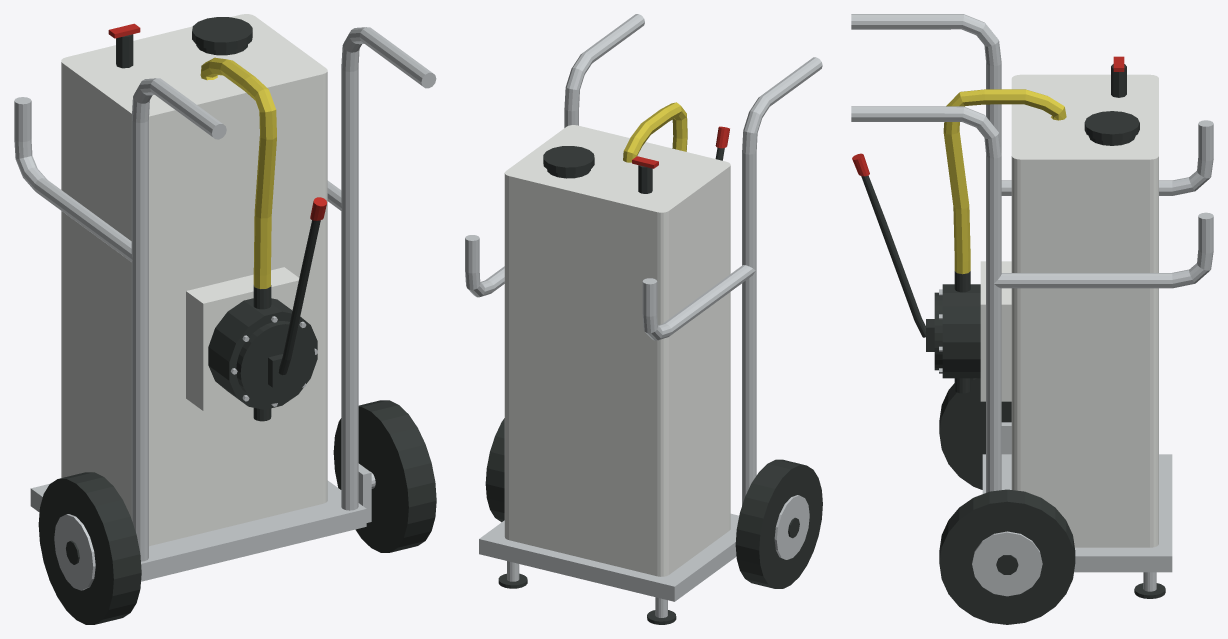
The picture shows the model from 3 angles, left to right: view 1: azimuth 30°, elevation 25°; view 2: azimuth 150°, elevation 25°; view 3: azimuth 270°, elevation 25°; orthographic projection. The views are drawn at different scales.
Parts seen in each view (by area): view 1: Collection_tank_25gal, Tubular_push_frame_-1, Tubular_push_frame_1, Pneumatic_tire_-1, Pneumatic_tire_1, Base_tray, Pump_mount_plate, Short_yellow_connecting_hose, Pump_cover, Diaphragm_pump_body, Wheel_rim_-1, Lever_pivot_lug (+2 smaller); view 2: Collection_tank_25gal, Tubular_push_frame_-1, Pneumatic_tire_-1, Base_tray, Tubular_push_frame_1, Short_yellow_connecting_hose, Wheel_rim_-1, Pneumatic_tire_1, Four_inch_access_cap; view 3: Collection_tank_25gal, Tubular_push_frame_1, Pneumatic_tire_1, Tubular_push_frame_-1, Base_tray, Short_yellow_connecting_hose, Pneumatic_tire_-1, Diaphragm_pump_body, Wheel_rim_1, Pump_mount_plate, Lever_pivot_lug, Four_inch_access_cap (+1 smaller).
Boxes of the visible parts, x1,y1,x2,y2 form: Collection_tank_25gal: [61, 14, 327, 546]; Tubular_push_frame_-1: [14, 78, 226, 561]; Tubular_push_frame_1: [327, 27, 436, 510]; Pneumatic_tire_-1: [38, 472, 141, 624]; Pneumatic_tire_1: [333, 400, 436, 552]; Base_tray: [30, 480, 366, 581]; Pump_mount_plate: [186, 267, 301, 410]; Short_yellow_connecting_hose: [200, 57, 276, 288]; Pump_cover: [236, 321, 314, 403]; Diaphragm_pump_body: [208, 298, 317, 409]; Wheel_rim_-1: [54, 514, 95, 590]; Lever_pivot_lug: [268, 220, 320, 387]; Collection_tank_25gal: [504, 125, 730, 576]; Tubular_push_frame_-1: [642, 57, 822, 505]; Pneumatic_tire_-1: [735, 459, 822, 588]; Base_tray: [479, 513, 739, 601]; Tubular_push_frame_1: [465, 14, 644, 297]; Short_yellow_connecting_hose: [623, 102, 687, 162]; Wheel_rim_-1: [774, 495, 809, 559]; Pneumatic_tire_1: [485, 418, 504, 522]; Four_inch_access_cap: [543, 146, 594, 174]; Collection_tank_25gal: [1011, 74, 1158, 547]; Tubular_push_frame_1: [851, 106, 1213, 492]; Pneumatic_tire_1: [939, 489, 1075, 624]; Tubular_push_frame_-1: [851, 14, 1213, 195]; Base_tray: [982, 454, 1172, 572]; Short_yellow_connecting_hose: [943, 89, 1066, 274]; Pneumatic_tire_-1: [939, 378, 1011, 489]; Diaphragm_pump_body: [942, 284, 980, 378]; Wheel_rim_1: [972, 531, 1042, 596]; Pump_mount_plate: [980, 261, 1011, 401]; Lever_pivot_lug: [861, 175, 934, 351]; Four_inch_access_cap: [1084, 111, 1139, 141].
Bounding box in the file's own units: 0.7747 × 1.22 × 0.8128.
